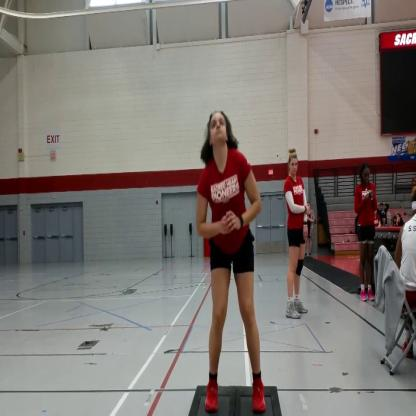lateral_flexion_right: (193, 104, 270, 416)
stance_width_normal: (193, 153, 268, 416)
